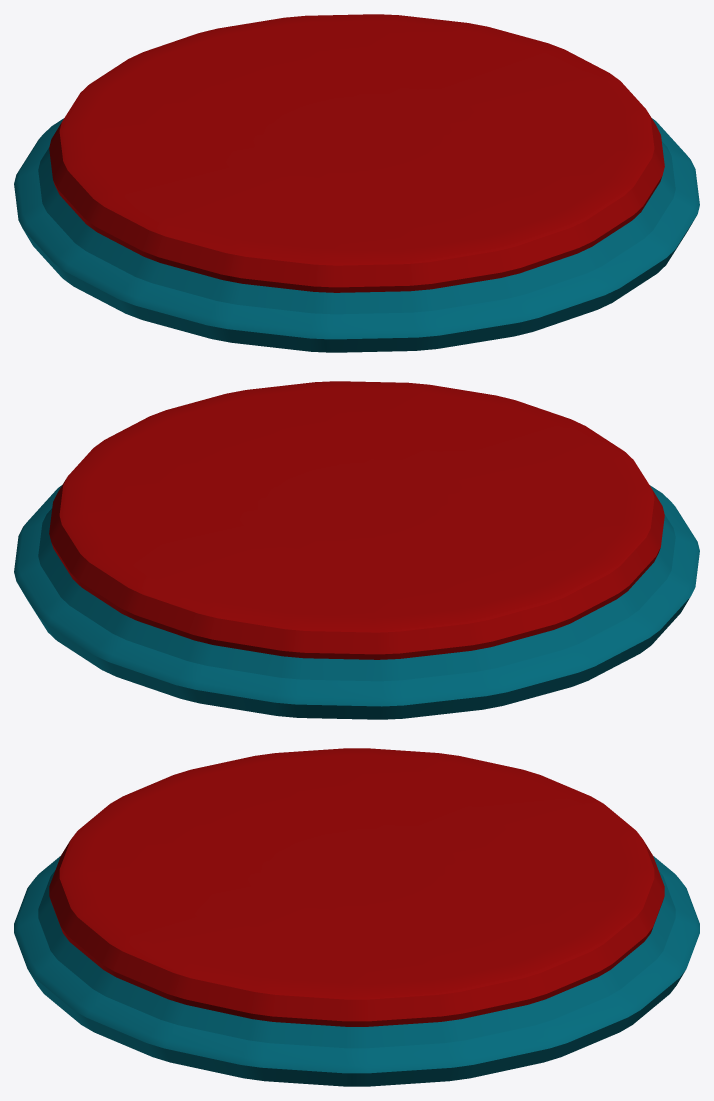
Rendered from ButtonRed.fbx.
3 renders of one model, top to bottom at view 1: azimuth 30°, elevation 25°; view 2: azimuth 150°, elevation 25°; view 3: azimuth 270°, elevation 25°, orthographic.
Visible parts, largest first — view 1: polySurface29; view 2: polySurface29; view 3: polySurface29.
Boxes of the visible parts, x1,y1,x2,y2 form: polySurface29: (14,14,699,352); polySurface29: (14,381,699,719); polySurface29: (14,748,699,1086).
Size of the model in its own units: 97.48 by 12.03 by 97.48.
